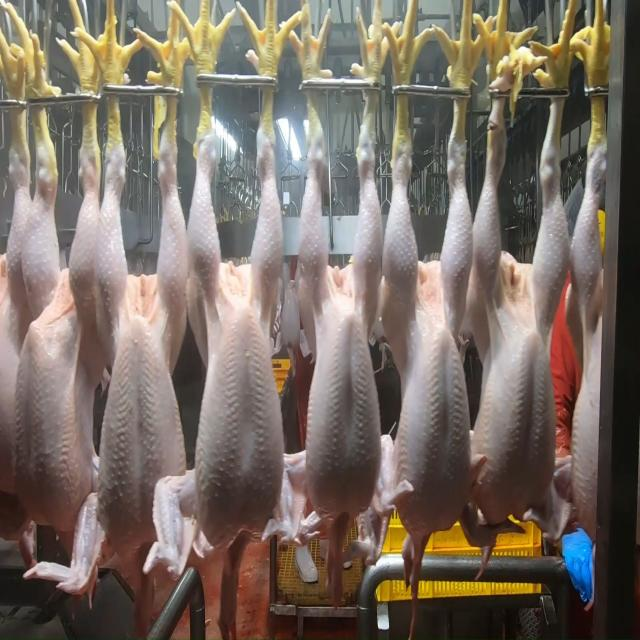chicken: (92, 110, 190, 568), (187, 123, 286, 555), (466, 118, 563, 517), (8, 138, 100, 550), (296, 112, 384, 532), (386, 139, 472, 541), (570, 116, 611, 552)
